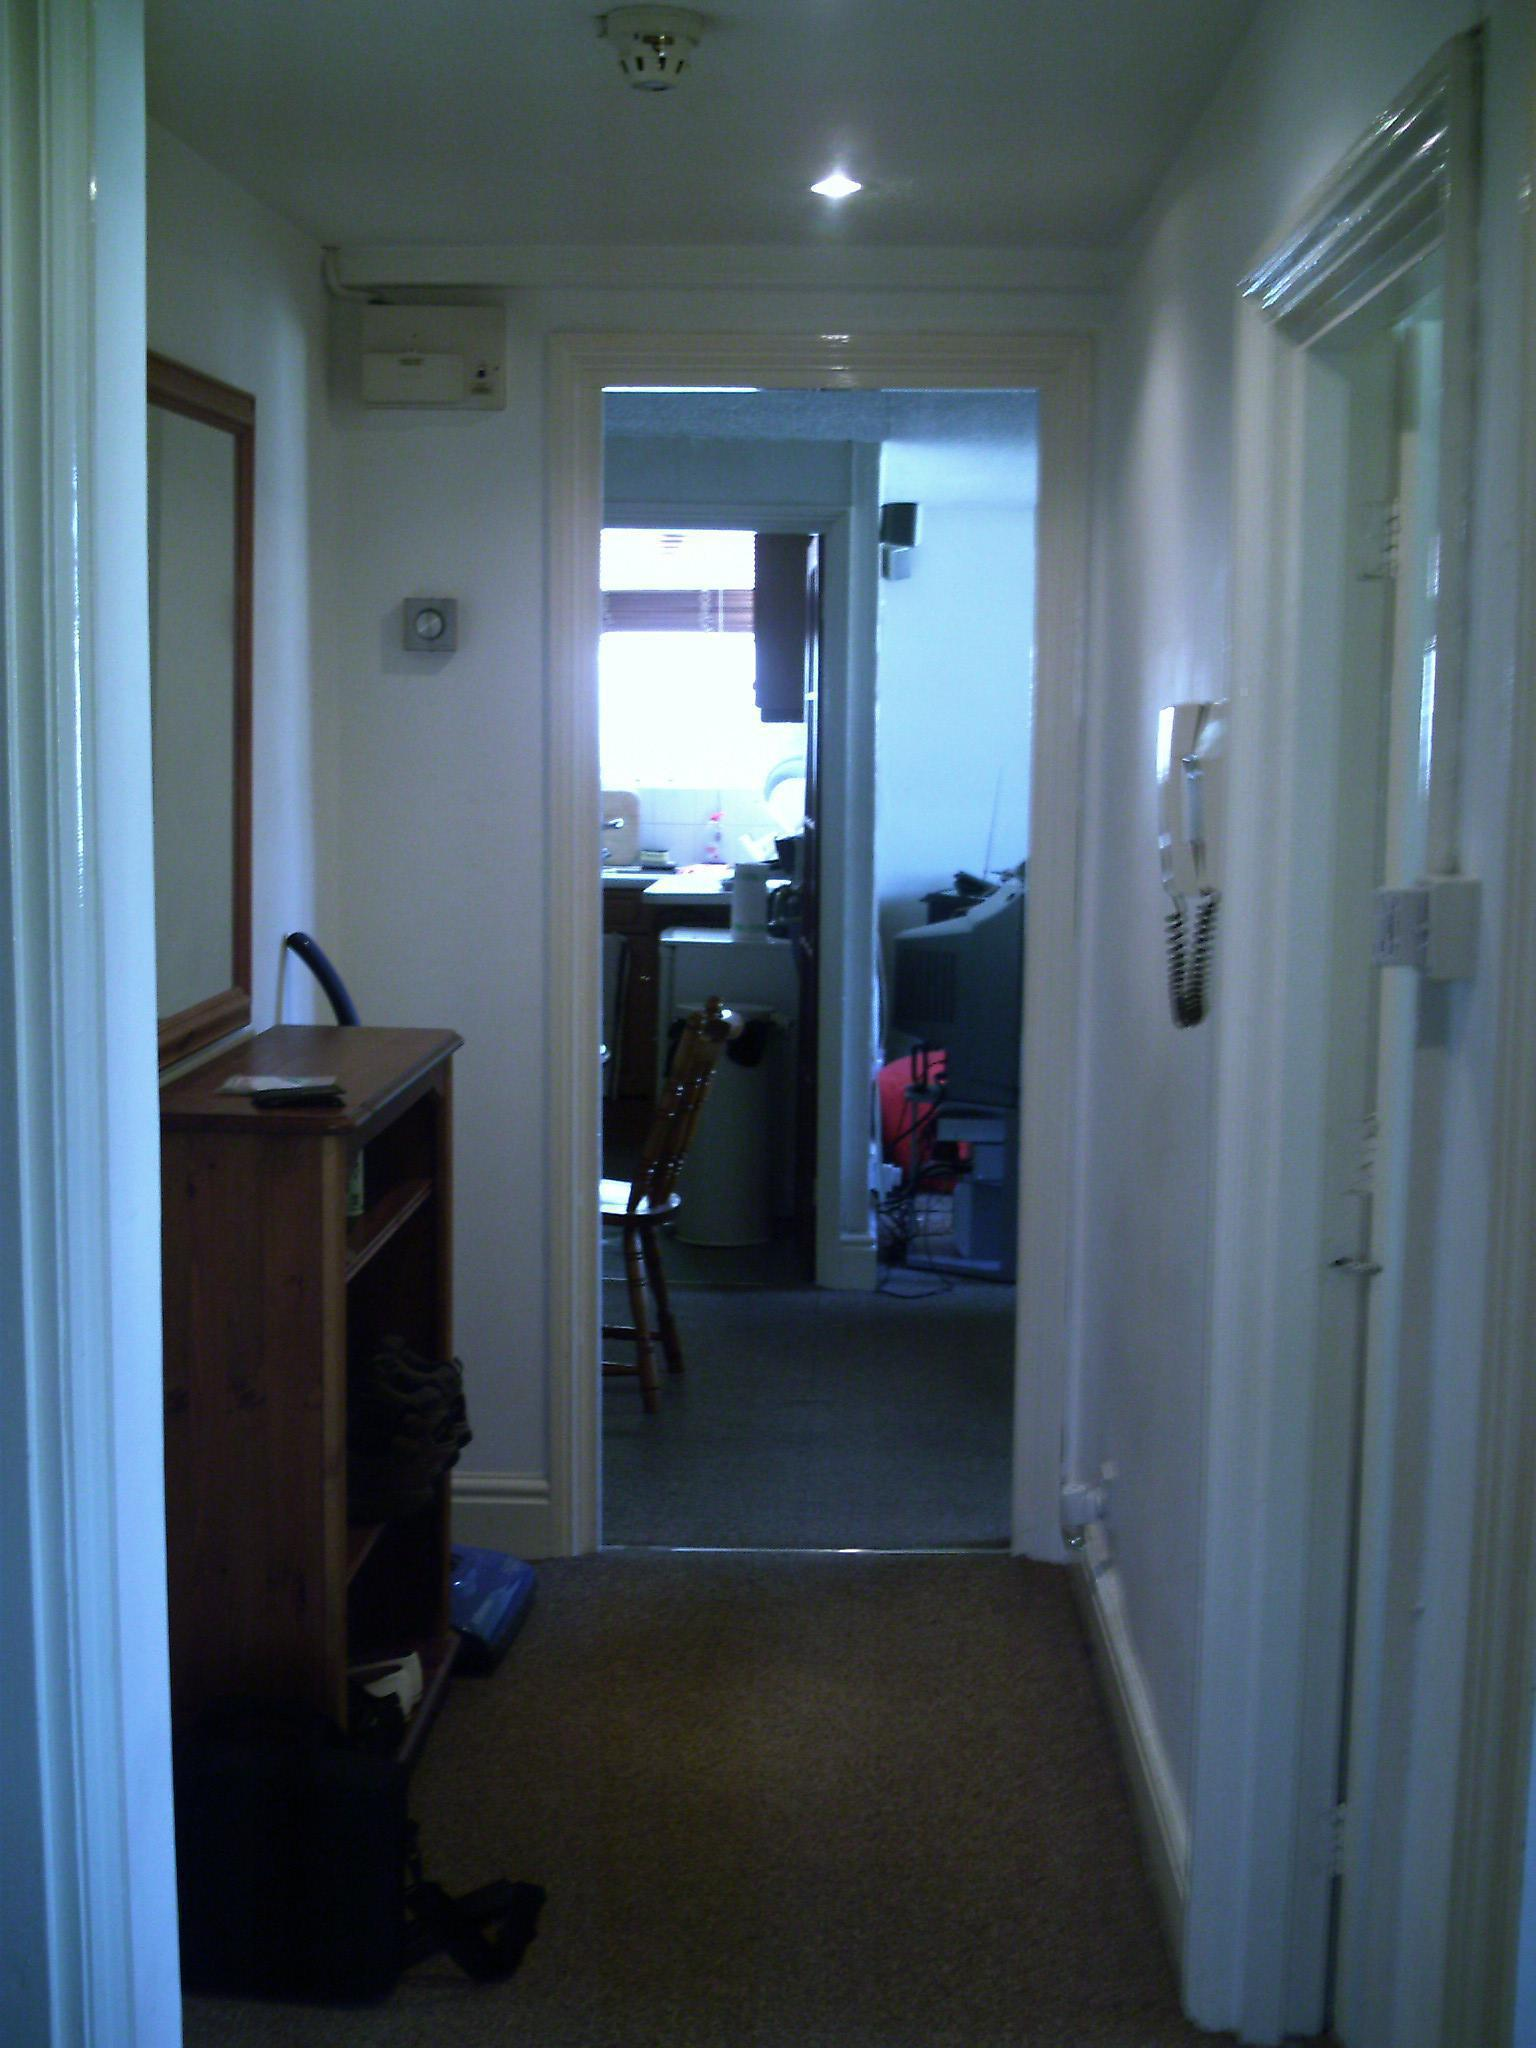Armario: (177, 1027, 461, 1753)
Otro Obstaculo: (202, 1717, 549, 2016)
Puerta: (1236, 211, 1436, 2006)
